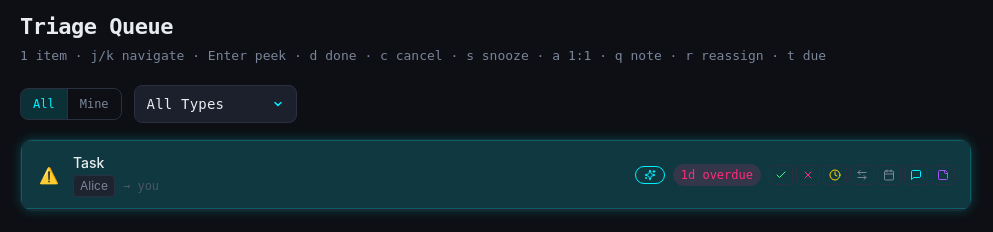
TriagePage › shows hint pill after clicking hint button
The image size is (993, 232).
What coordinates should you click on to do the following:
click the button with test id "triage-hint-btn"
I would click on:
 (650, 175)
Its box is [635,166,665,184].
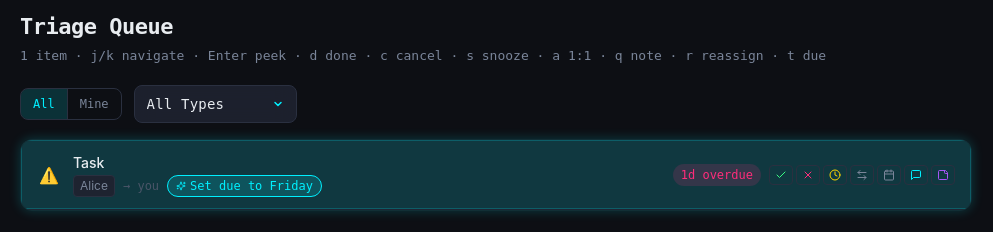
expect the element with test id "triage-hint-pill" is shown: met, box [167,175,322,197]
expect the text "Set due to Friday" is shown: met, box [190,177,313,195]
